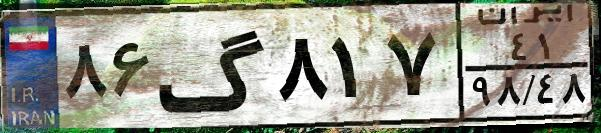1: (330, 28, 385, 110), (537, 27, 568, 80)
4: (508, 27, 537, 80), (535, 70, 560, 125)
6: (110, 28, 156, 98)
7: (385, 28, 445, 110)
8: (270, 28, 330, 110), (57, 26, 110, 100), (560, 70, 590, 125), (495, 70, 520, 125)
9: (470, 70, 495, 125)
گ: (156, 12, 270, 120)
